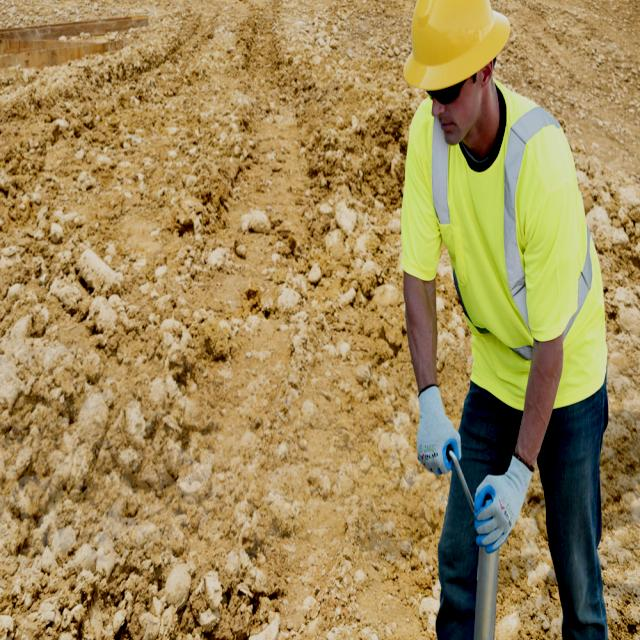Gloves: (472, 456, 536, 558), (410, 384, 462, 480)
Hard Hat: (406, 1, 517, 97)
Reflective Vest: (394, 79, 616, 414)
Safety Glasses: (421, 76, 471, 106)
